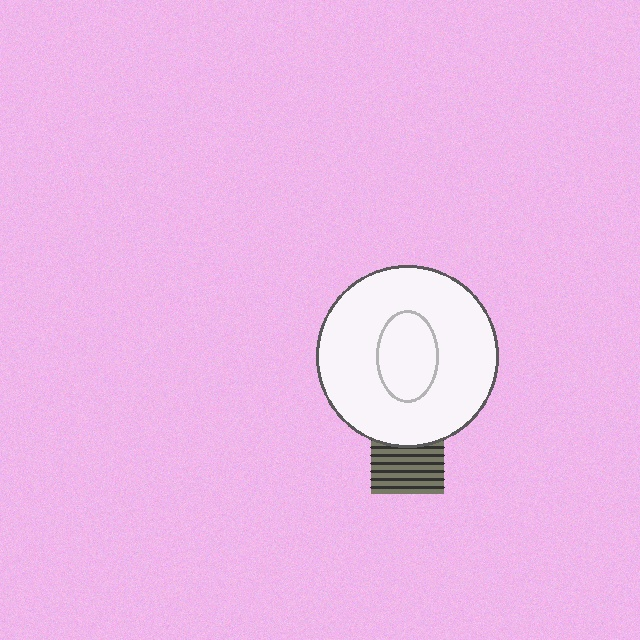bulb: (312, 261, 502, 498)
